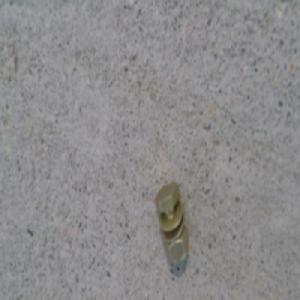BoltNutSet: (157, 178, 190, 262)
